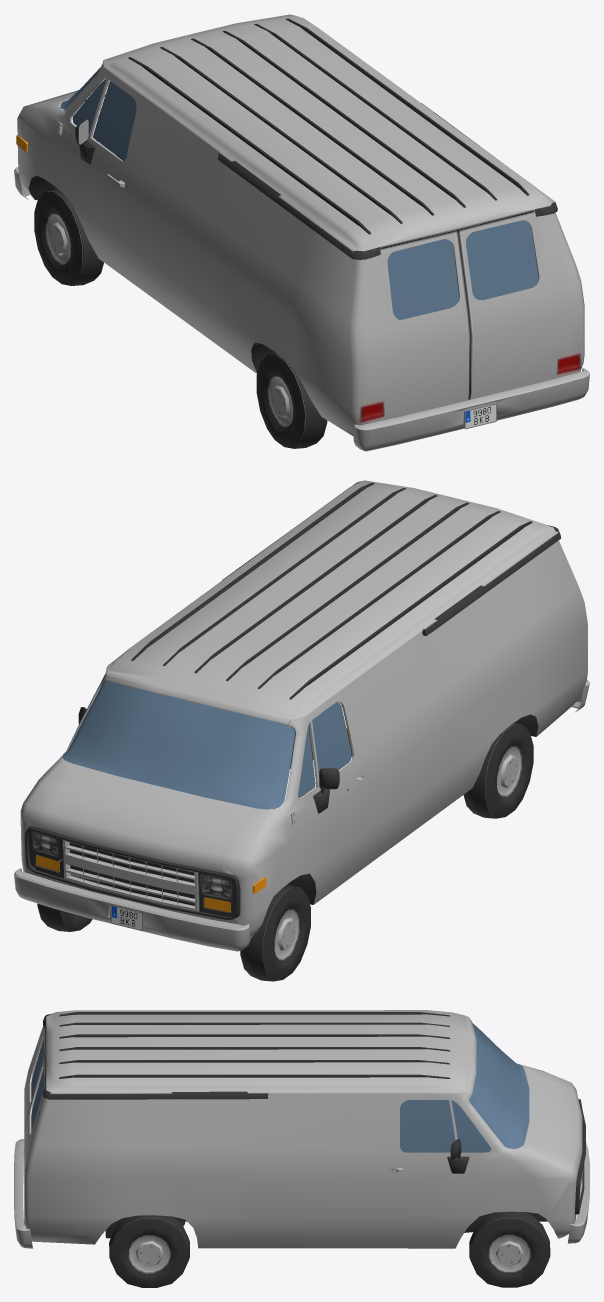
The model's file is v_van.glb.
3 views of the same model, one above another, from view 1: azimuth 30°, elevation 25°; view 2: azimuth 150°, elevation 25°; view 3: azimuth 270°, elevation 25° (orthographic). The views are drawn at different scales.
Visible parts, largest first — view 1: node_Furgo_1_-46778_2, node_Cristales_-46776_1, node_RuedasTraseras_-46782_4, node_RuedasDelanteras_-46780_3; view 2: node_Furgo_1_-46778_2, node_Cristales_-46776_1, node_RuedasDelanteras_-46780_3, node_RuedasTraseras_-46782_4; view 3: node_Furgo_1_-46778_2, node_Cristales_-46776_1, node_RuedasDelanteras_-46780_3, node_RuedasTraseras_-46782_4.
Part boxes in pixels (x1,y1,x2,y2): node_Furgo_1_-46778_2: [14, 14, 589, 451]; node_Cristales_-46776_1: [60, 67, 538, 319]; node_RuedasTraseras_-46782_4: [256, 352, 327, 448]; node_RuedasDelanteras_-46780_3: [34, 189, 103, 285]; node_Furgo_1_-46778_2: [14, 480, 589, 951]; node_Cristales_-46776_1: [62, 681, 351, 809]; node_RuedasDelanteras_-46780_3: [37, 884, 310, 981]; node_RuedasTraseras_-46782_4: [290, 722, 533, 818]; node_Furgo_1_-46778_2: [14, 1010, 589, 1248]; node_Cristales_-46776_1: [31, 1023, 529, 1152]; node_RuedasDelanteras_-46780_3: [469, 1211, 550, 1287]; node_RuedasTraseras_-46782_4: [109, 1215, 189, 1287].
Size of the model in its own units: 0.9775 by 0.905 by 2.32.
Materials: 3 (2 with a texture image).
